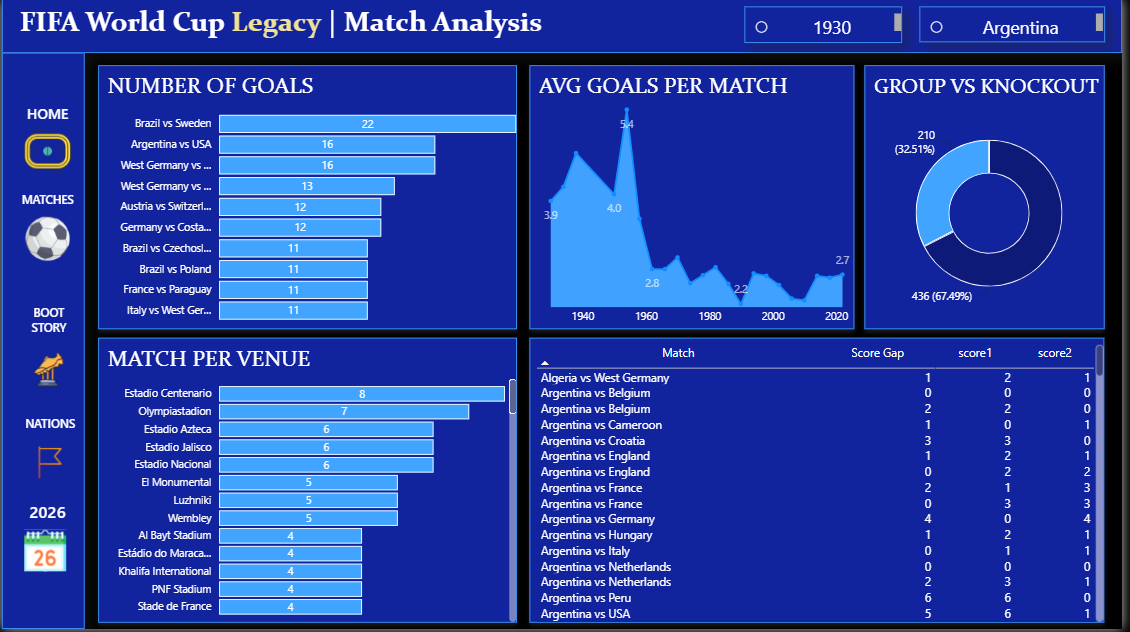

The dashboard page shown, as its layout file describes it:
{"tool":"powerbi","page":{"name":"MATCH_CHRONICLES","canvas":[1280,720],"ordinal":1},"visuals":[{"type":"barChart","title":"NUMBER OF GOALS","fields":{"Category":["matches.Match"],"Y":["Sum(matches.Total Goals)"]},"box":[110,75.7,478.6,301.4],"z":0},{"type":"barChart","title":"MATCH PER VENUE","fields":{"Category":["matches.venue"],"Y":["CountNonNull(matches.Match)"]},"box":[110,387.1,478.6,325.7],"z":1000},{"type":"tableEx","fields":{"Values":["matches.Match","matches.team1","matches.Score Gap","matches.score1","matches.score2","matches.team2"]},"box":[602.9,387.1,657.1,325.7],"z":2000},{"type":"lineChart","title":"AVG GOALS PER MATCH","fields":{"Category":["fifa_football editions.year"],"Y":["Avg(fifa_football editions.goals_per_match)"]},"box":[602.9,75.7,371.4,301.4],"z":3000},{"type":"donutChart","title":"GROUP VS KNOCKOUT","fields":{"Category":["matches.stage_type"],"Y":["Sum(matches.Total Goals)"]},"box":[985.7,75.7,274.3,301.4],"z":4000},{"type":"textbox","box":[0,0,1280,61.4],"z":11000},{"type":"listSlicer","fields":{"Values":["matches.country"]},"box":[1048.3,8.9,211.8,40.9],"z":12000},{"type":"listSlicer","fields":{"Values":["editions.year"]},"box":[848.6,8.6,180,41.4],"z":13000},{"type":"shape","box":[0,61.4,94.3,658.6],"z":13001},{"type":"actionButton","title":"HOME","box":[21.4,120,61.4,85.7],"z":13002},{"type":"actionButton","title":"MATCHES","box":[21.4,220,61.4,85.7],"z":13003},{"type":"actionButton","title":"BOOT STORY","box":[22.9,348.6,61.4,100],"z":13004},{"type":"actionButton","title":"NATIONS","box":[24.3,475.7,61.4,85.7],"z":13005},{"type":"actionButton","title":"2026","box":[21.4,572.9,61.4,85.7],"z":13006}]}

Visuals, with their boxes on the page's 1280x720 design canvas (x1, y1, x2, y2). These are canvas units, not pixel positions in the 1130x632 screenshot, which may show the page scaled, cropped or inside an application window:
"NUMBER OF GOALS" barChart: bbox=(110, 76, 589, 377)
"MATCH PER VENUE" barChart: bbox=(110, 387, 589, 713)
tableEx - matches.Match x matches.team1: bbox=(603, 387, 1260, 713)
"AVG GOALS PER MATCH" lineChart: bbox=(603, 76, 974, 377)
"GROUP VS KNOCKOUT" donutChart: bbox=(986, 76, 1260, 377)
textbox: bbox=(0, 0, 1280, 61)
listSlicer - matches.country: bbox=(1048, 9, 1260, 50)
listSlicer - editions.year: bbox=(849, 9, 1029, 50)
shape: bbox=(0, 61, 94, 720)
"HOME" actionButton: bbox=(21, 120, 83, 206)
"MATCHES" actionButton: bbox=(21, 220, 83, 306)
"BOOT STORY" actionButton: bbox=(23, 349, 84, 449)
"NATIONS" actionButton: bbox=(24, 476, 86, 561)
"2026" actionButton: bbox=(21, 573, 83, 659)
